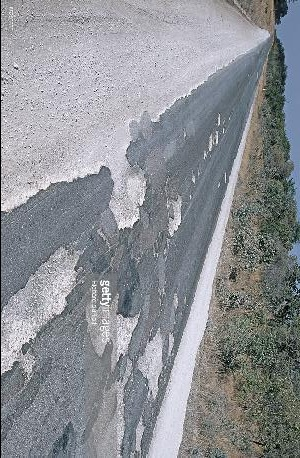pothole: (1, 242, 83, 379), (108, 156, 151, 231), (137, 325, 166, 400), (115, 306, 144, 361), (165, 193, 185, 236), (133, 410, 146, 454), (206, 130, 216, 152), (216, 111, 222, 126)
